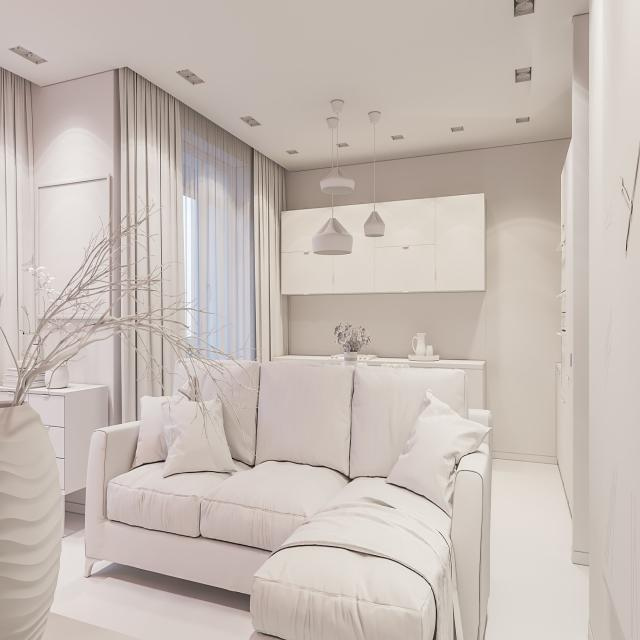white sofa: (84, 346, 479, 634)
